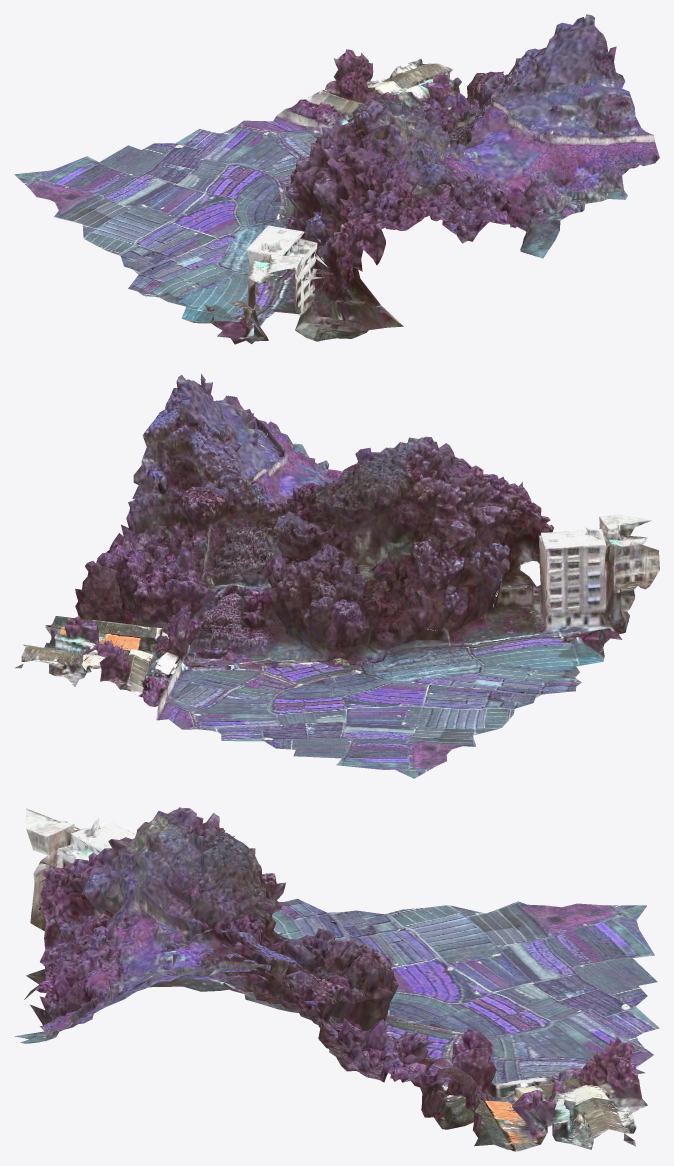
The model's file is Tile_+011_+019_L18_00002.glb.
3 views of the same model, one above another, from view 1: azimuth 30°, elevation 25°; view 2: azimuth 150°, elevation 25°; view 3: azimuth 270°, elevation 25° (orthographic). The views are drawn at different scales.
Parts seen in each view (by area): view 1: rtc; view 2: rtc; view 3: rtc.
Part boxes in pixels (x1,y1,x2,y2): rtc: (14, 14, 659, 344); rtc: (14, 373, 659, 778); rtc: (15, 807, 659, 1151).
Bounding box in the file's own units: 113 × 46.79 × 111.
1 material, 1 textured.
